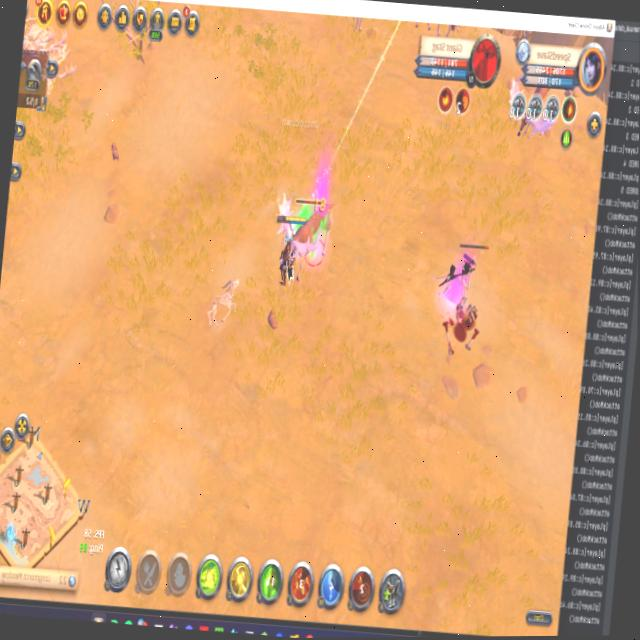ore: (437, 233, 491, 310), (286, 191, 333, 270)
red: (271, 210, 306, 288)
